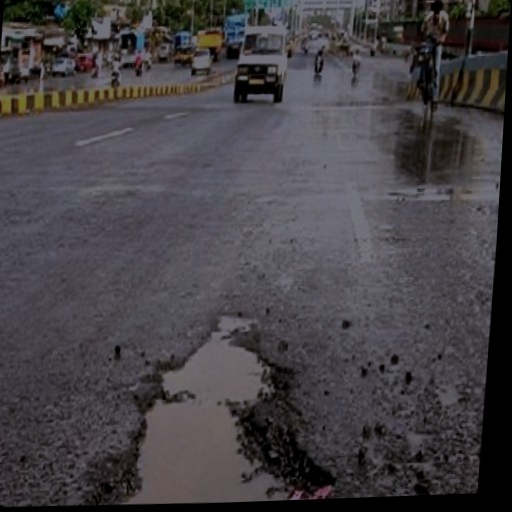pothole: (82, 316, 350, 508)
